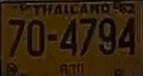0: (27, 19, 44, 55)
4: (118, 17, 134, 54), (60, 18, 76, 54)
7: (79, 17, 96, 54), (8, 18, 24, 56)
9: (98, 17, 115, 54)
TAK: (57, 60, 84, 75)
